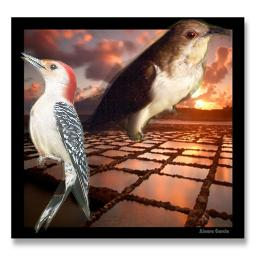Cuckoo: (63, 19, 232, 142)
Woodpecker: (17, 52, 90, 233)
